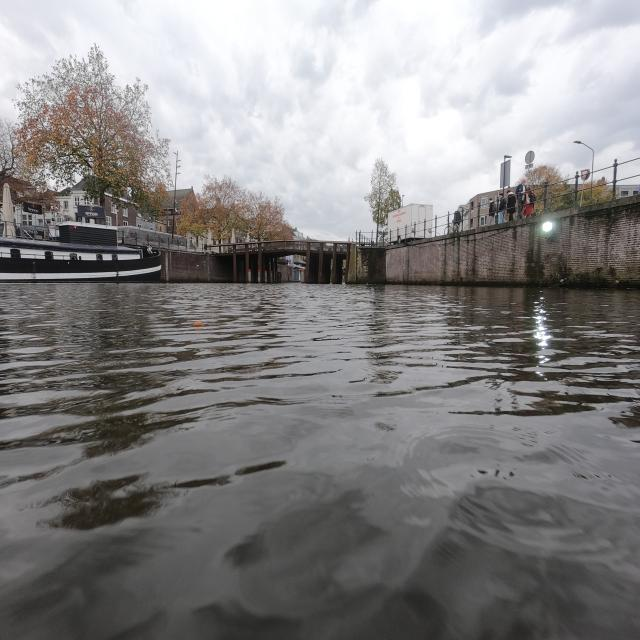boat: (0, 223, 161, 282)
sky: (4, 2, 638, 238)
tree: (16, 46, 171, 205), (177, 175, 292, 241), (364, 158, 401, 242)
wall: (390, 202, 638, 286), (526, 203, 638, 287), (166, 250, 232, 282)
water: (4, 290, 638, 634)
